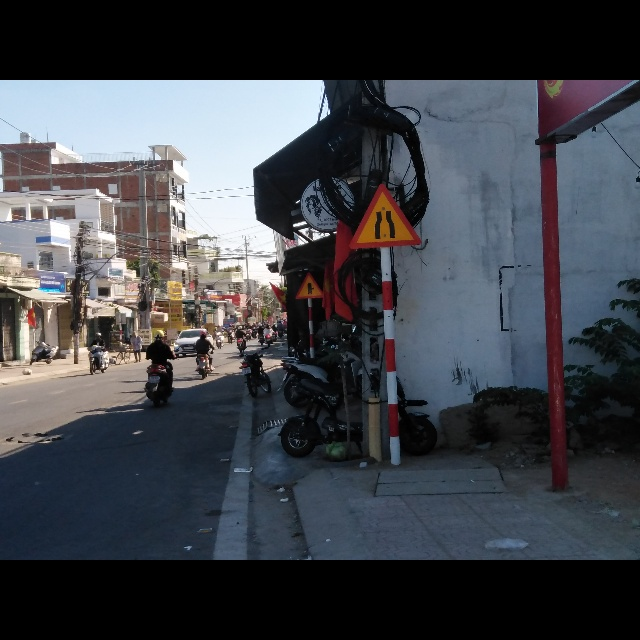Giao nhau với đường không ưu tiên: (295, 272, 327, 300)
Đường bị hẹp cả hai bên: (349, 183, 425, 250)
